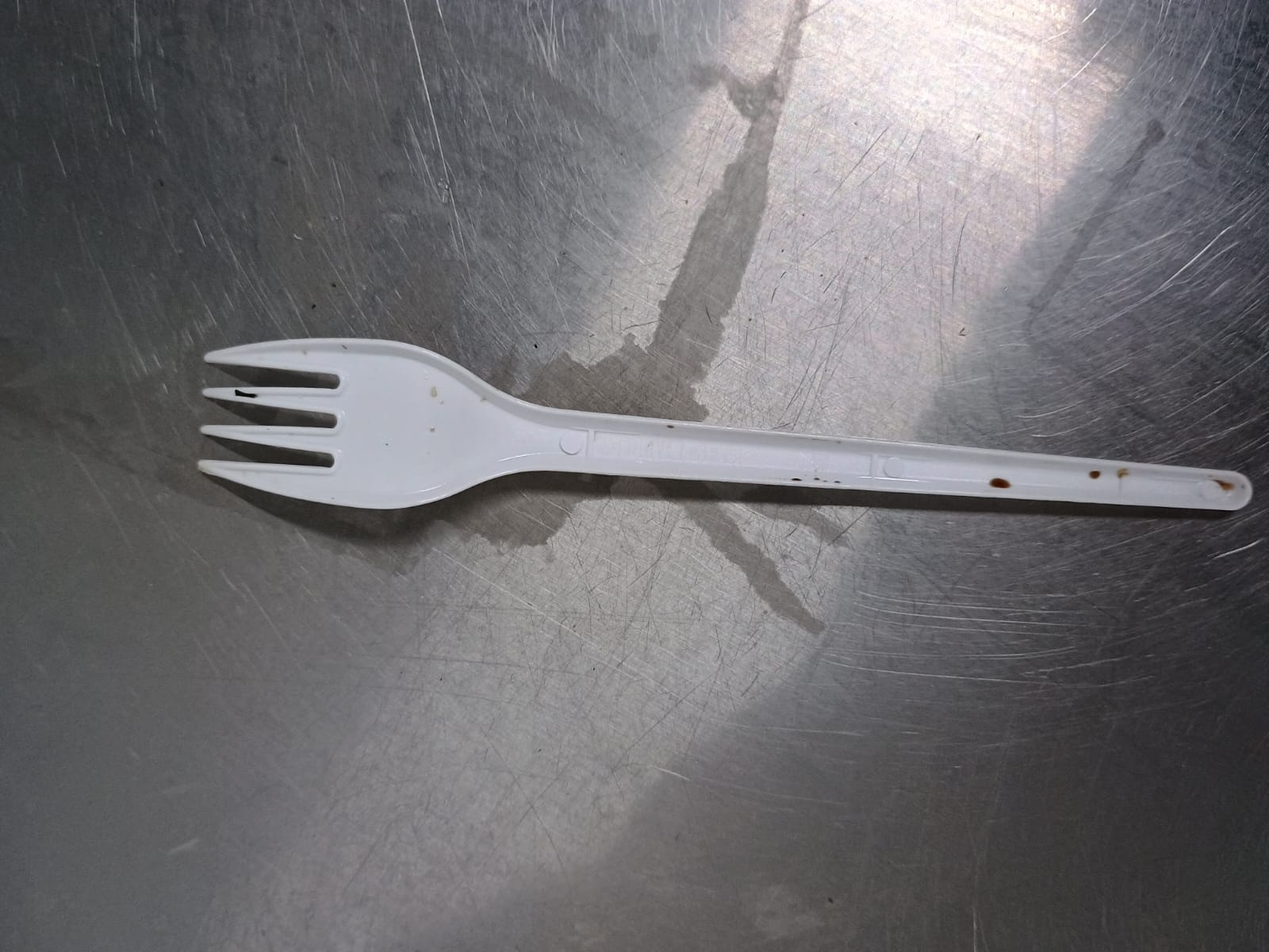Ordinario: (196, 336, 1253, 513)
